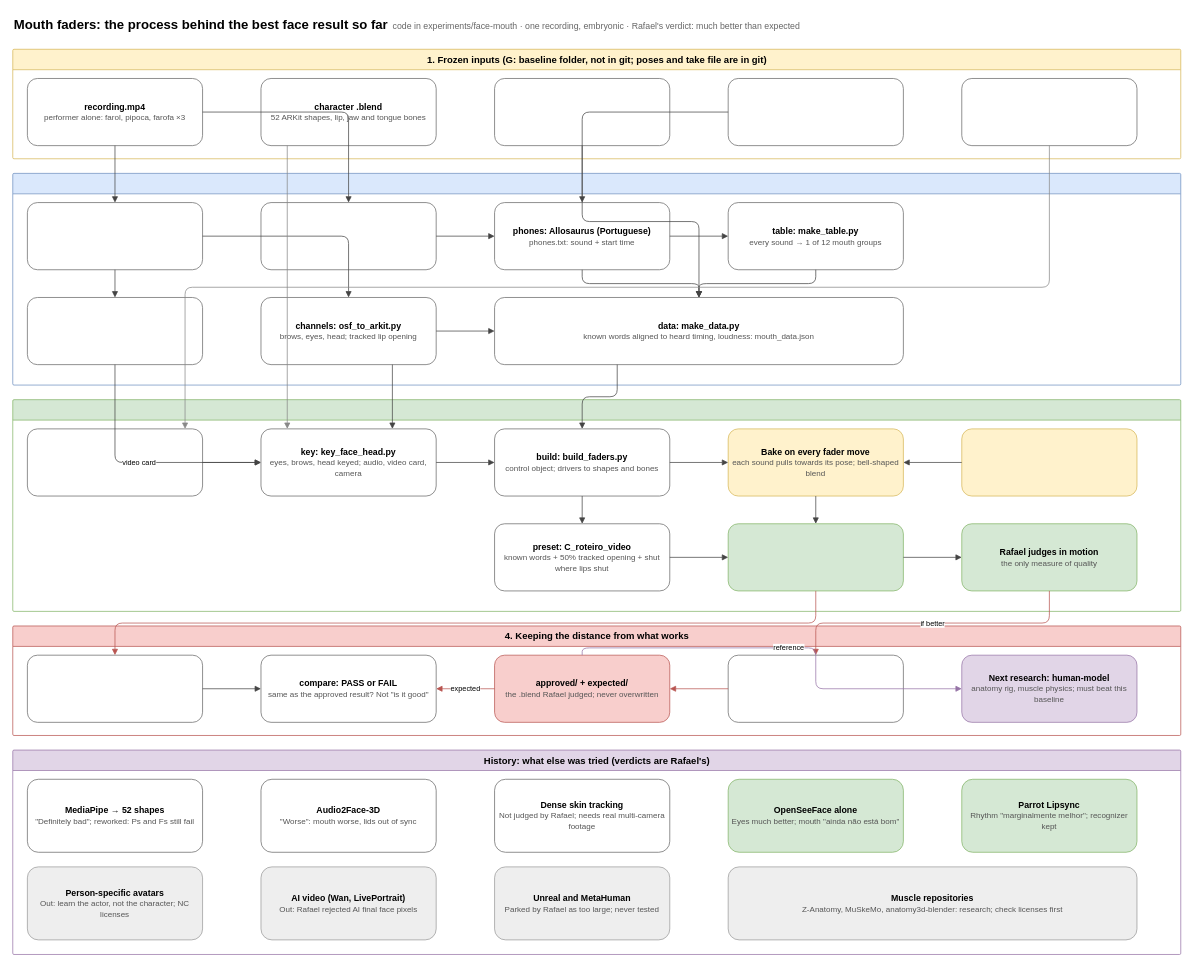
Some shapes in this 1194 by 967 pixel diagram are drawn without their labels. The shapes that lost their labels are listed below. From the top down, each one's box as (x1, y1, x2, y2) in pixels, then its label:
(494, 78, 670, 146): take_files/*.json + poses.json known words, still window, markers; 13 poses
(727, 78, 903, 146): Allosaurus uni2005 saved copy of the recognizer model
(961, 78, 1137, 146): Apps Blender 5.2.2, MPFB, OpenSeeFace v1.20.5
(27, 202, 203, 270): track: OpenSeeFace tracking.csv, 66 points + pupils, pts.txt
(260, 202, 436, 270): audio: ffmpeg voice.wav, audio.raw
(12, 173, 1181, 385): 2. Analysis (WSL Python and Windows tracker; run_experiment.py stages)
(27, 297, 203, 365): overlay: overlay_video.py points over the recording, for review
(27, 428, 203, 496): install: mouth_faders add-on panel in the Boca tab (N key)
(961, 428, 1137, 496): Rafael's faders sounds, timing, strength, video opening, one per pose
(12, 399, 1181, 611): 3. Blender scene and faders (portable Blender 5.2.2)
(727, 523, 903, 591): faders.blend abrir_faders.bat opens it in the portable Blender
(27, 654, 203, 722): verify: verify_faders.py measures A, B, C; tests a fader; curves; 8 stills
(727, 654, 903, 722): --bless, only after Rafael approves new dated baseline folder; old one is kept
